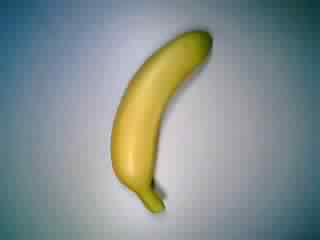banana: (107, 27, 219, 215)
